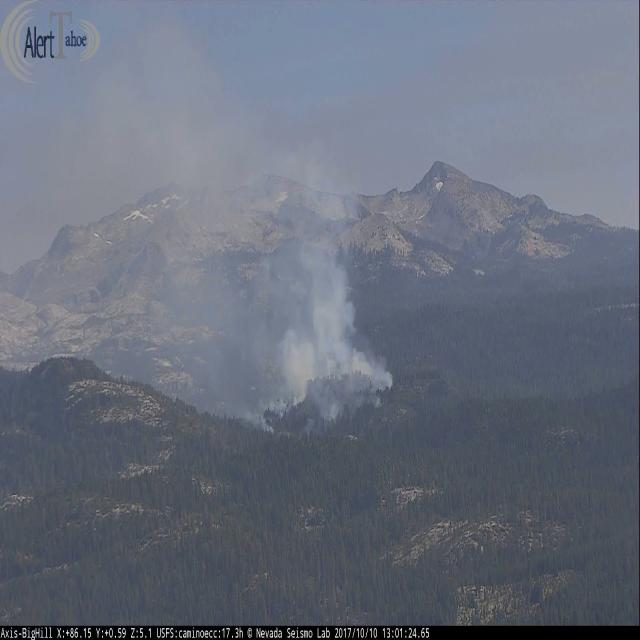smoke: (225, 144, 399, 421)
